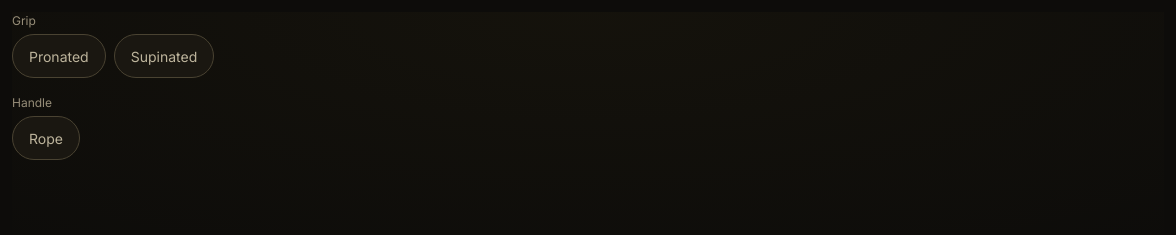
Test: SetupPicker a11y › one labelled group per offered axis, pressed state, choose / clear / reset
Later steps or results of the test are not shown.
Expected: the text "Back to the usual setup" is not shown
Click the button "Supinated" at (164, 56), box [114,34,214,78]
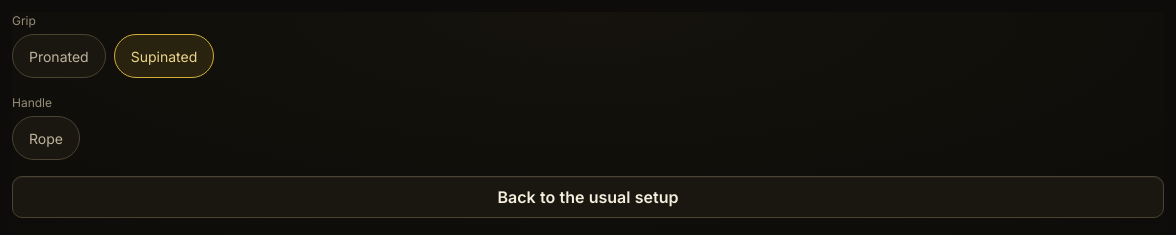
Result: the text "Back to the usual setup" is shown at [498,185,678,209]
